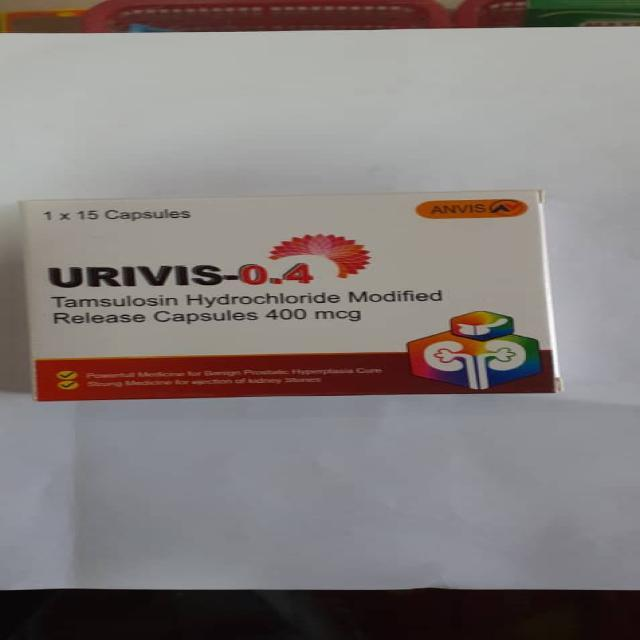drug-name: (46, 264, 316, 288)
